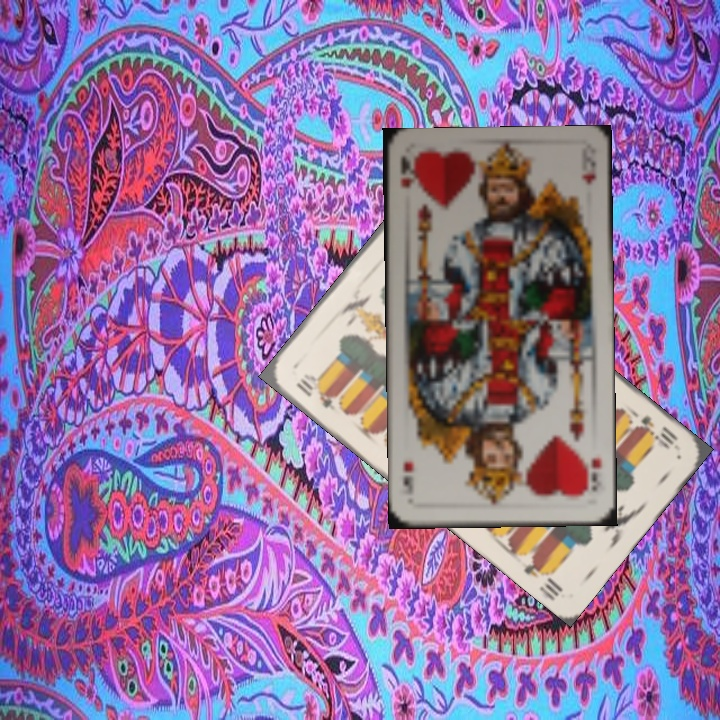E10: (632, 411, 681, 452), (291, 374, 338, 413)
HK: (580, 452, 604, 494), (396, 153, 417, 191)
